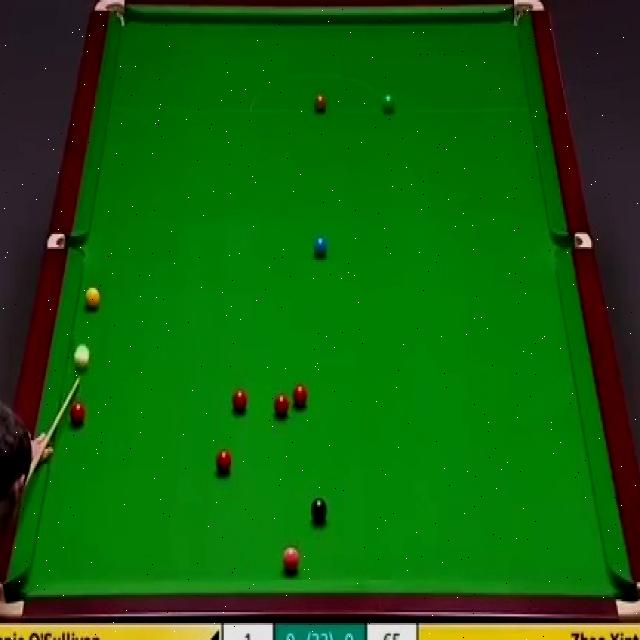black-ball: (310, 497, 327, 522)
blue-ball: (312, 236, 327, 256)
brown-ball: (314, 90, 326, 112)
green-ball: (382, 92, 398, 112)
pink-ball: (282, 545, 300, 572)
red-ball: (230, 390, 250, 414), (272, 392, 290, 418), (290, 382, 308, 407), (69, 400, 84, 429), (215, 449, 231, 475)
white-ball: (75, 347, 90, 371)
yellow-ball: (84, 284, 103, 310)
